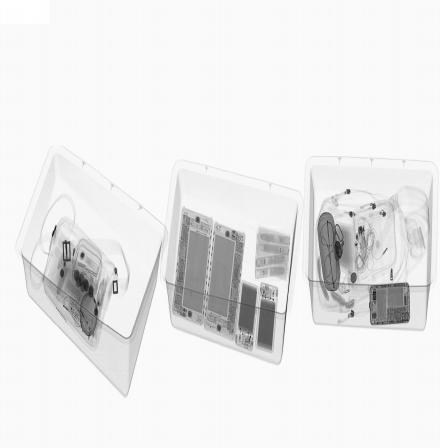Lighter: (357, 224, 369, 264)
